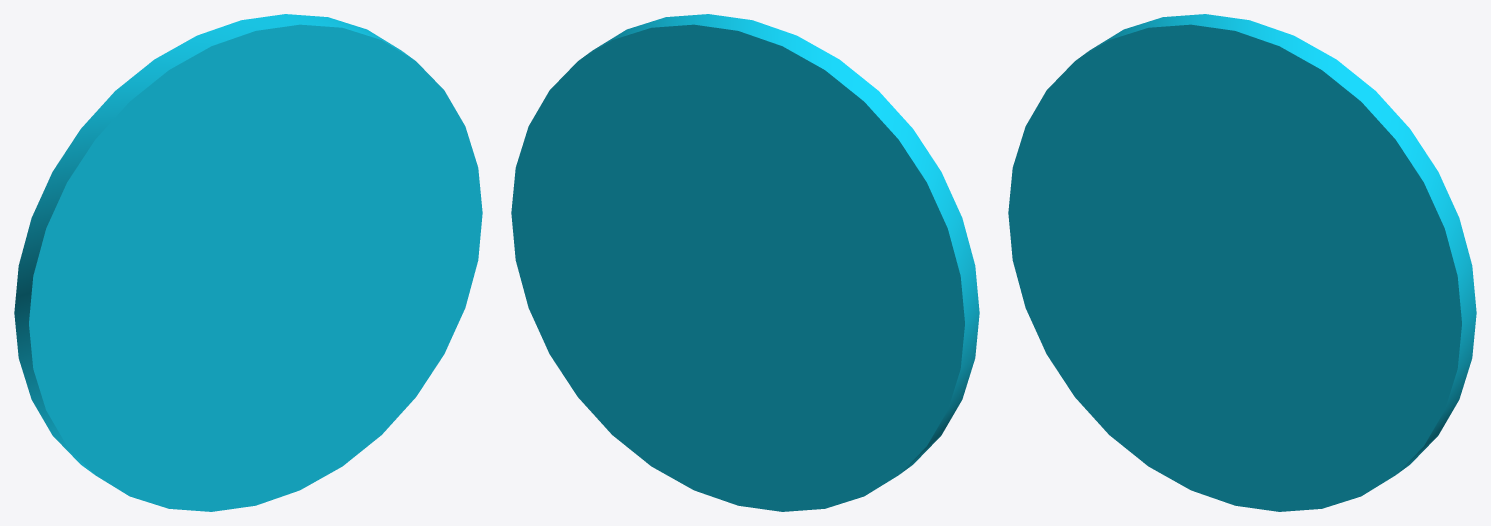
File: EM_GlowExhaust.obj
3 renders of one model, left to right at view 1: azimuth 30°, elevation 25°; view 2: azimuth 150°, elevation 25°; view 3: azimuth 330°, elevation 25°, orthographic.
Parts seen in each view (by area): view 1: EM_GlowExhaust; view 2: EM_GlowExhaust; view 3: EM_GlowExhaust.
Boxes of the visible parts, left/top/right/bottom form: EM_GlowExhaust: left=14, top=14, right=482, bottom=511; EM_GlowExhaust: left=511, top=14, right=979, bottom=511; EM_GlowExhaust: left=1008, top=14, right=1476, bottom=511.
Bounding box in the file's own units: 1.44 × 1.44 × 0.08.
